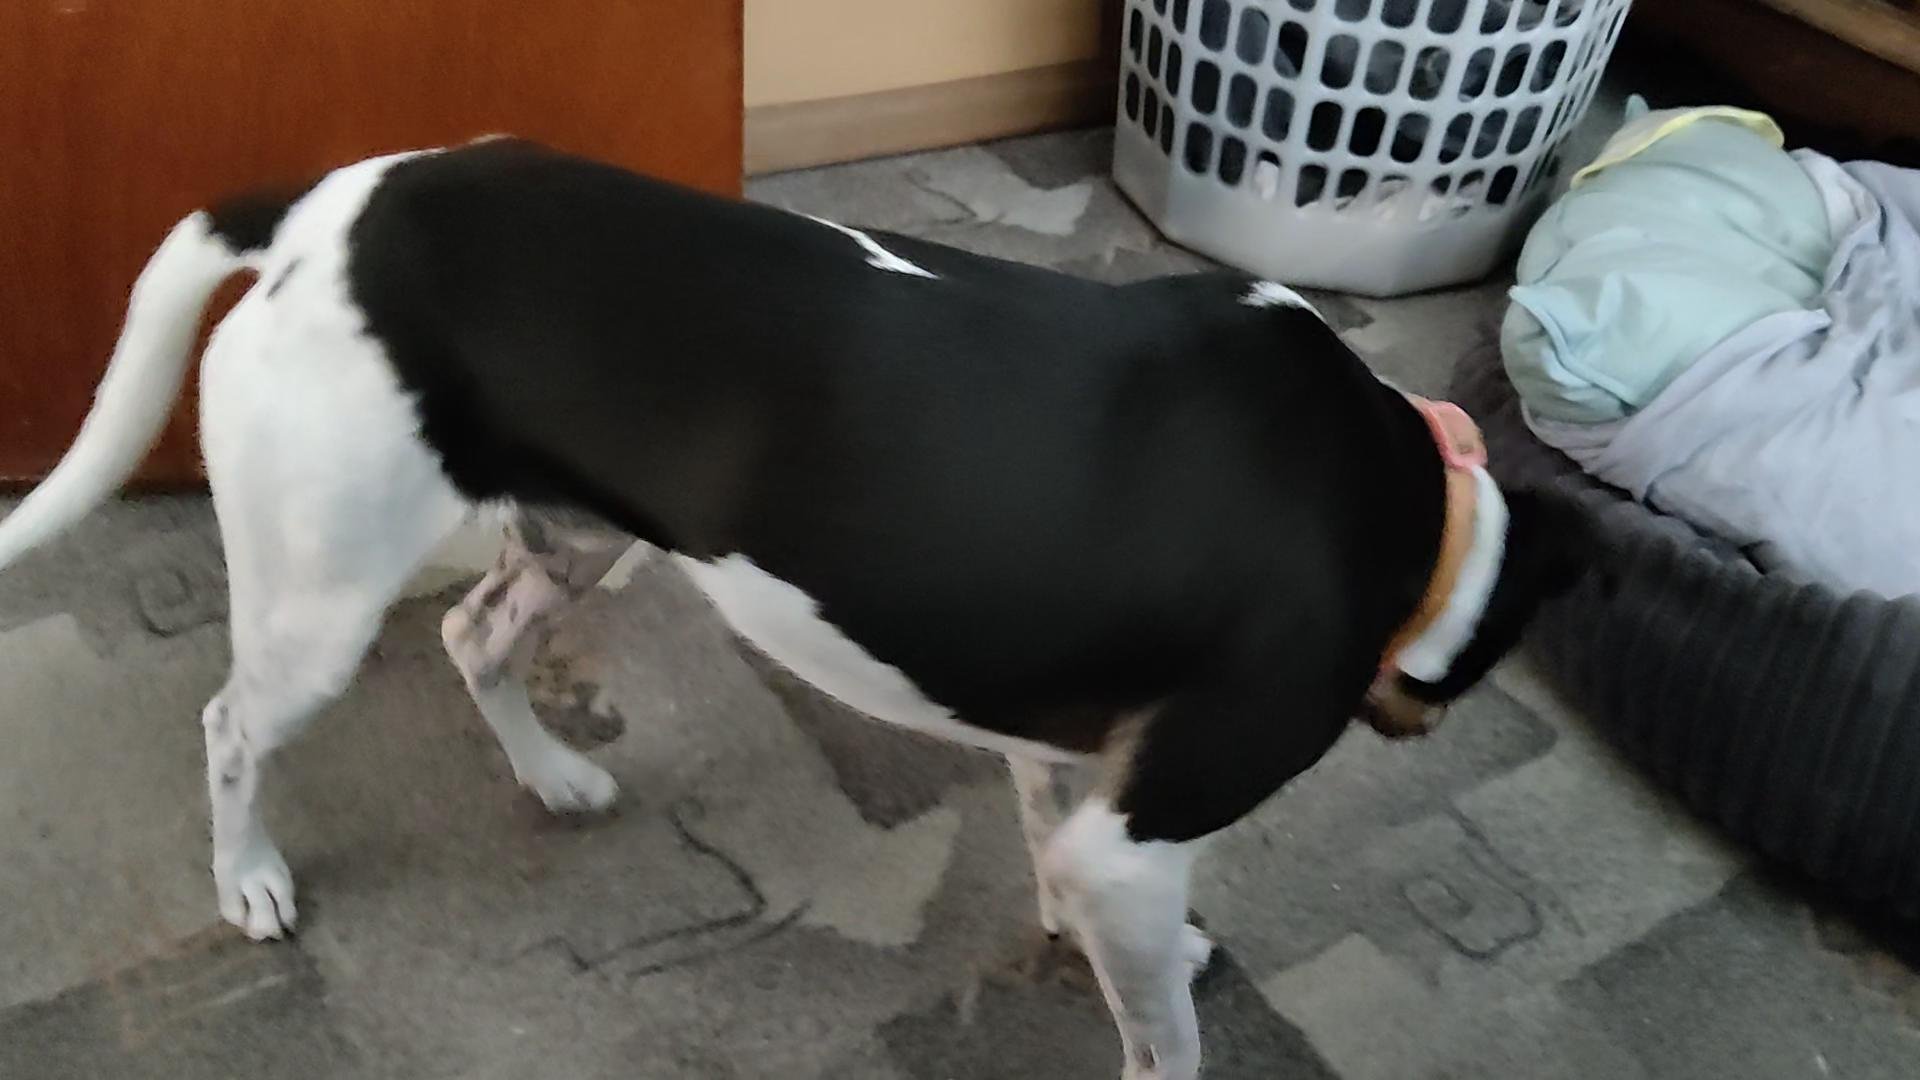Dog: (0, 131, 1633, 1079)
